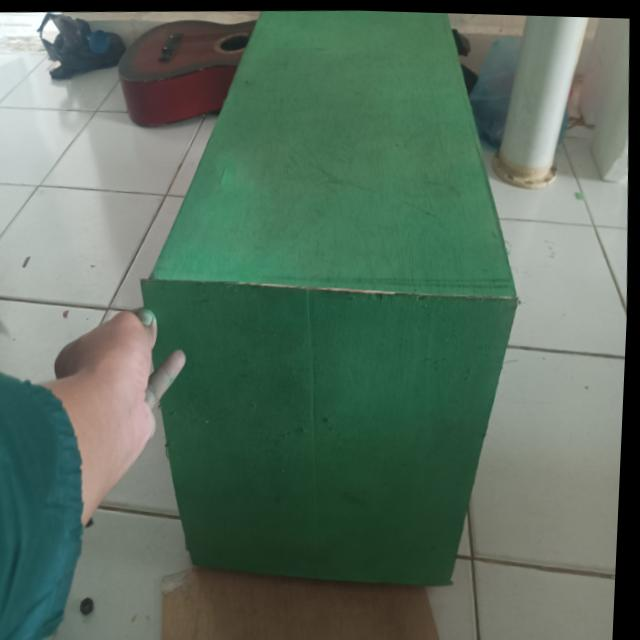green_box: (188, 5, 596, 640)
